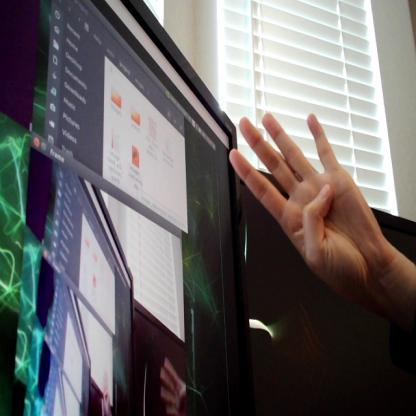four: (222, 107, 394, 299)
